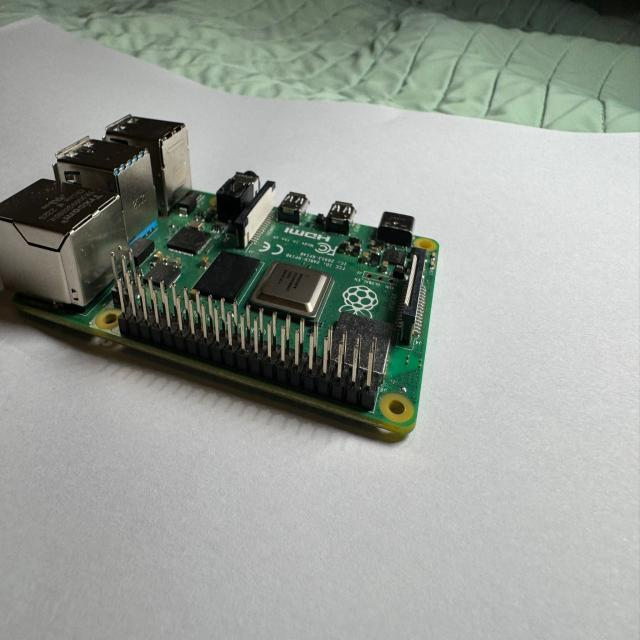CPU: (246, 258, 339, 326)
Ethernet: (0, 179, 136, 308)
GPIO: (118, 267, 382, 413)
RAM: (191, 251, 263, 305)
Raspberry: (1, 110, 443, 440)
micro-hdmi: (320, 195, 358, 236), (275, 187, 312, 225)
